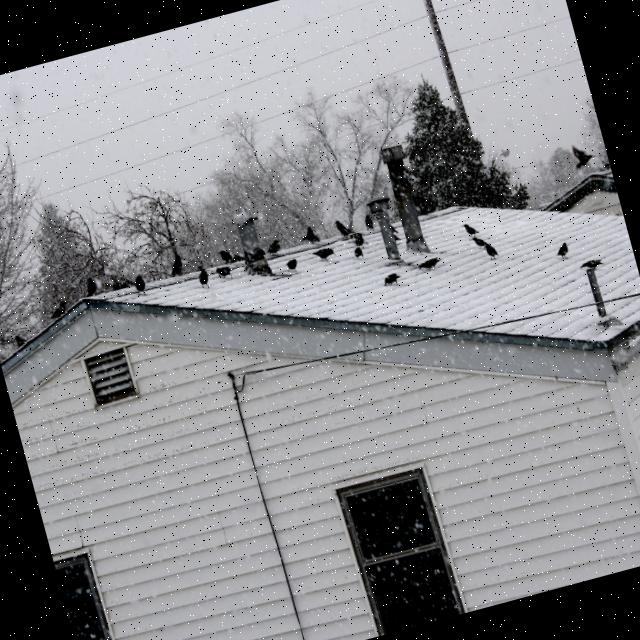bird: (472, 232, 499, 262), (570, 140, 596, 170), (311, 246, 337, 266), (165, 251, 185, 277), (298, 224, 320, 246), (334, 216, 354, 240), (578, 256, 606, 273), (416, 255, 442, 273), (278, 258, 300, 278), (196, 264, 212, 290), (222, 246, 242, 264), (264, 238, 282, 257), (132, 274, 148, 294), (382, 271, 402, 287), (554, 241, 570, 260), (462, 220, 479, 237), (215, 264, 232, 281), (284, 257, 299, 272), (352, 230, 365, 247), (389, 224, 401, 242), (362, 213, 374, 230), (352, 245, 363, 259)
